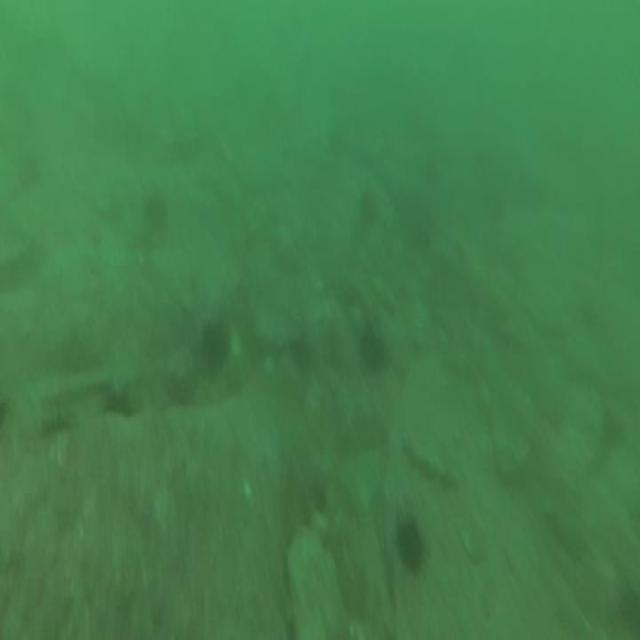echinus: (358, 327, 388, 378), (397, 522, 425, 575), (202, 324, 228, 367), (146, 193, 164, 231)
